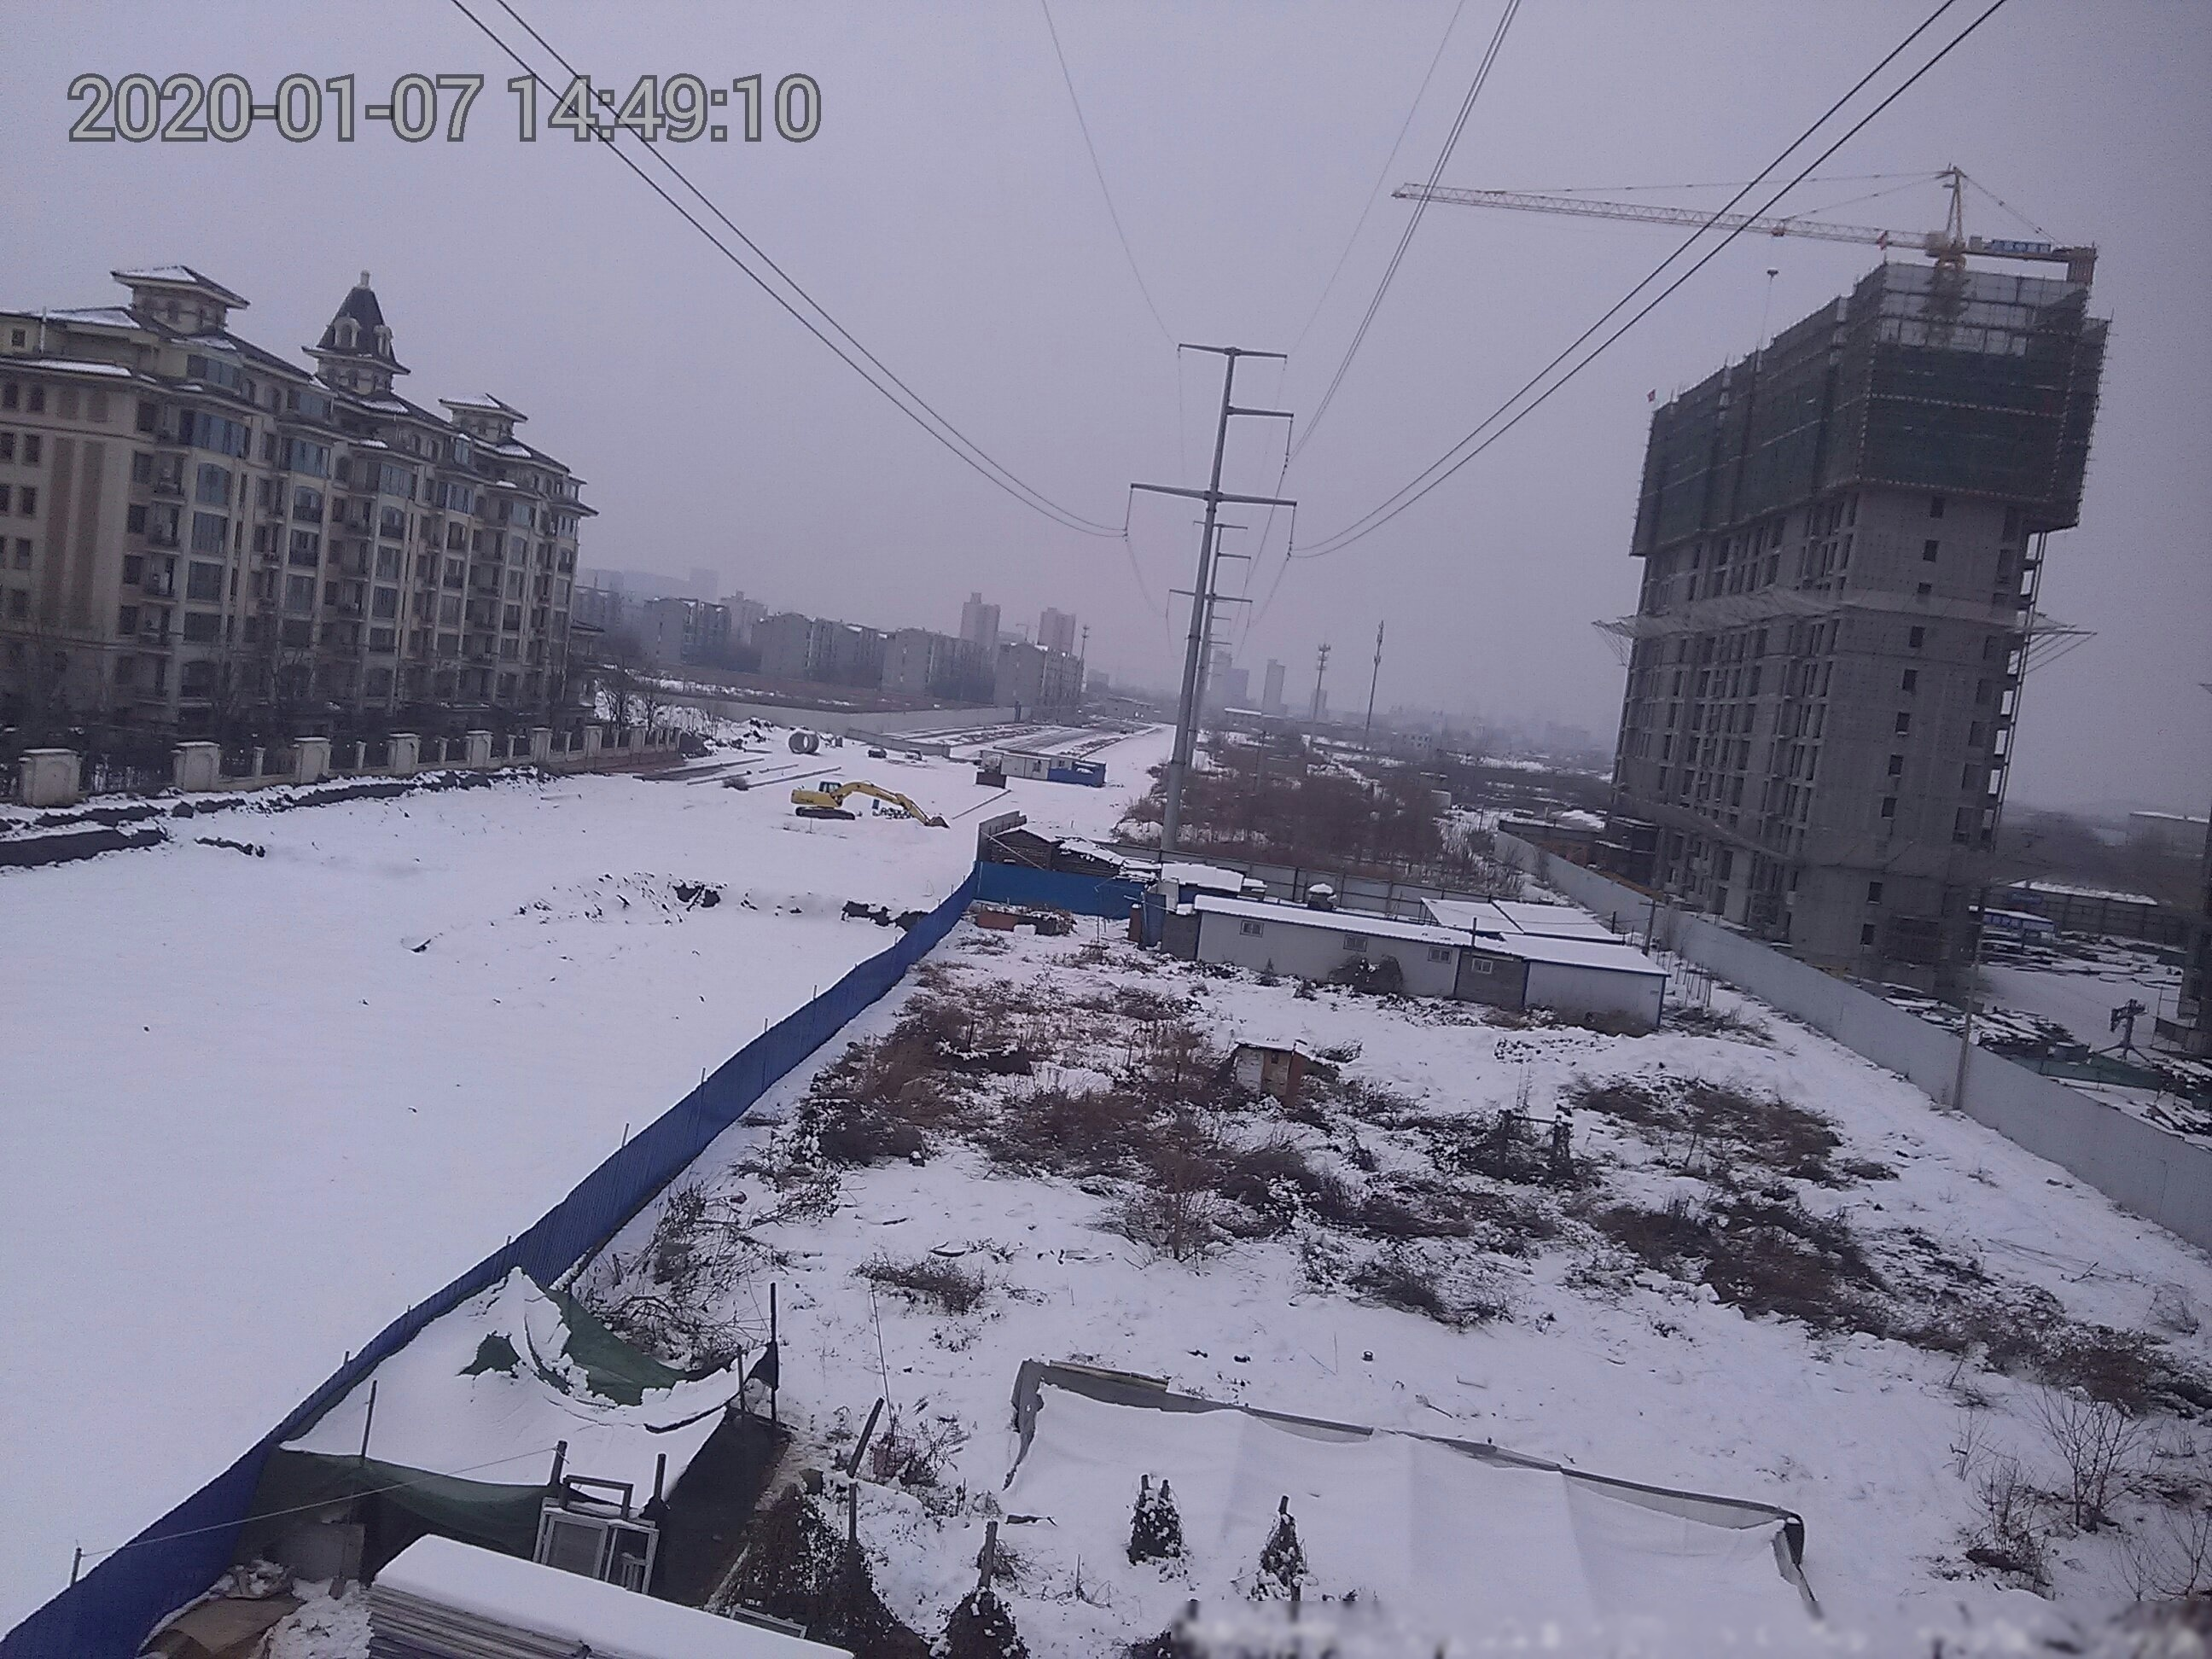gouche: (796, 769, 963, 836)
tadiao: (1386, 166, 2111, 310)
